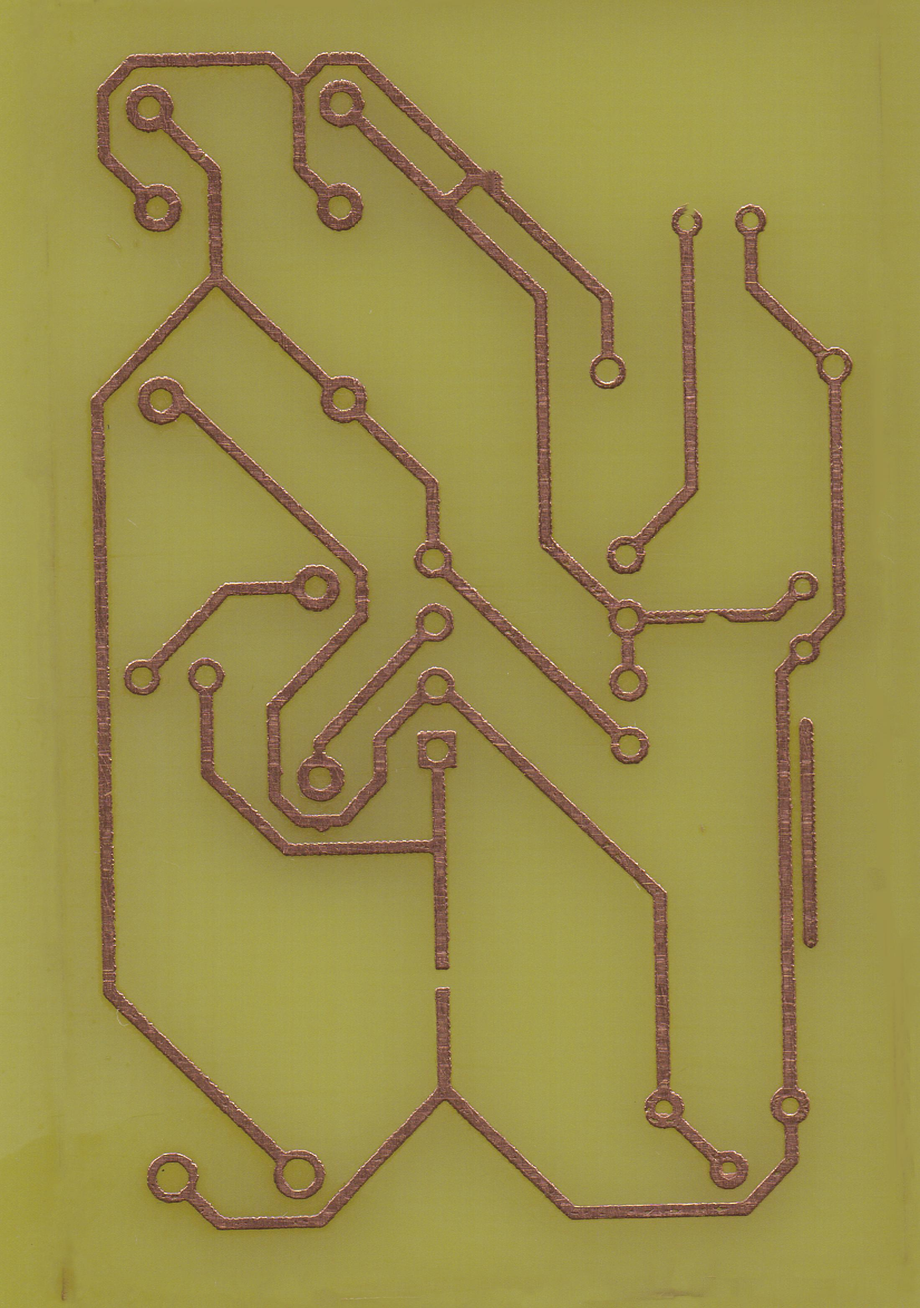missing_hole: (672, 203, 704, 239)
mouse_bite: (693, 611, 737, 628)
open_circuit: (427, 953, 458, 1005)
short: (430, 153, 476, 212)
spur: (480, 167, 504, 200), (305, 813, 335, 835)
spurious_copper: (795, 717, 824, 952)
